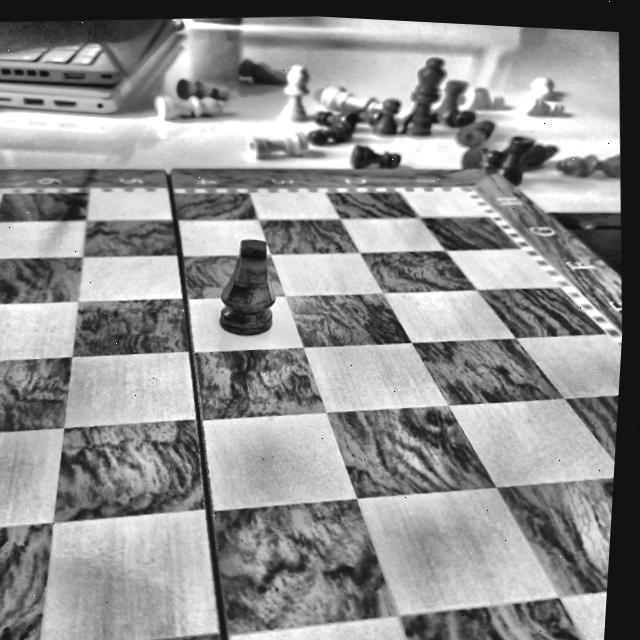black-knight: (205, 231, 290, 344)
